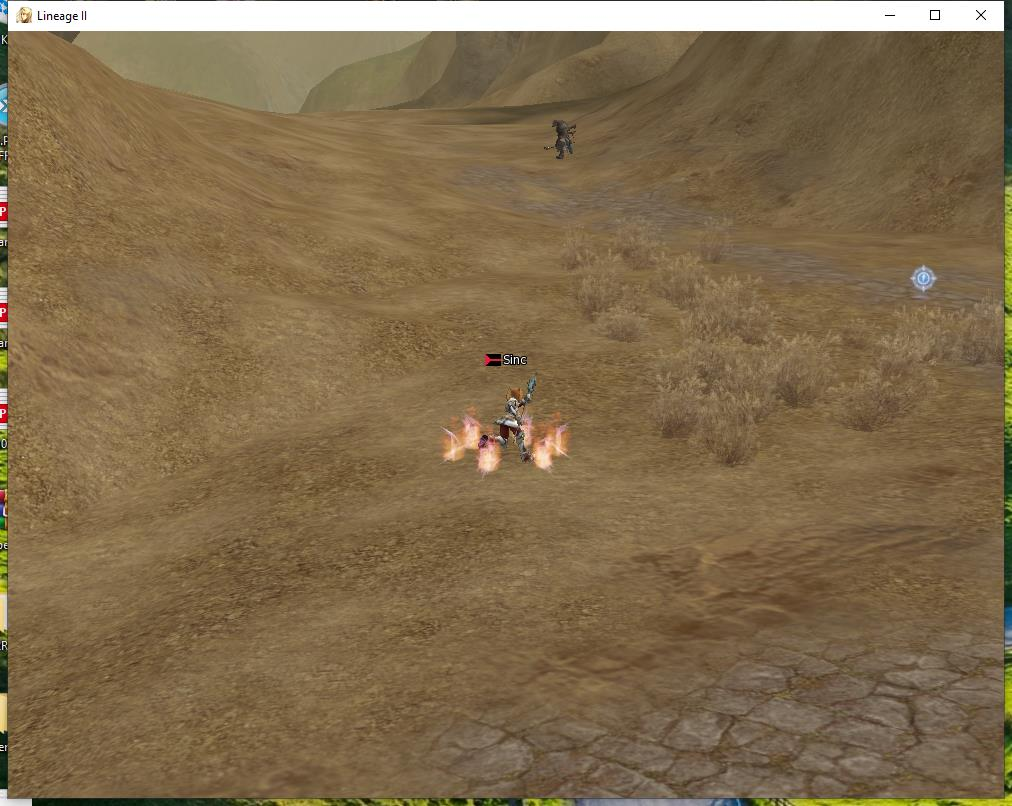monster: (541, 111, 591, 179)
